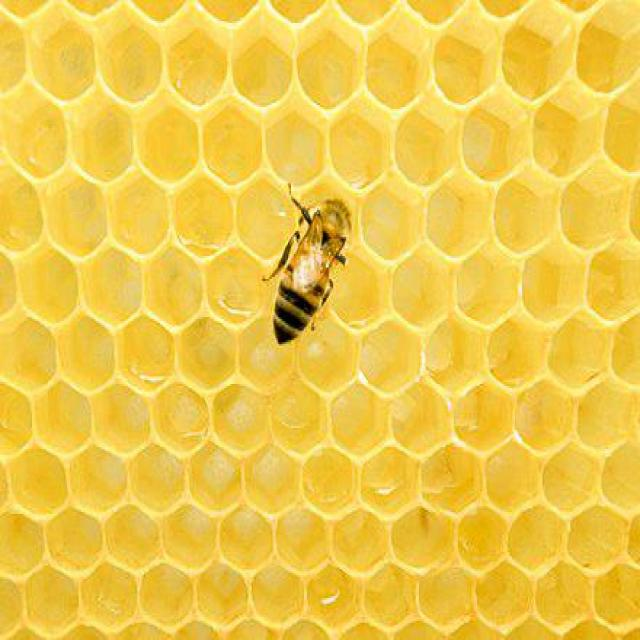honeybee: (240, 158, 353, 350)
